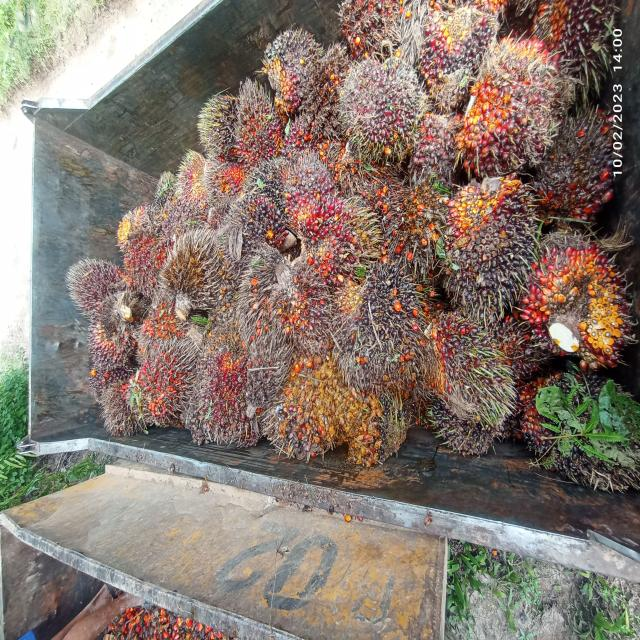fraksi 00: (511, 359, 640, 494), (432, 172, 546, 321), (533, 84, 630, 234), (332, 258, 425, 393), (428, 392, 504, 478), (252, 21, 320, 111), (233, 161, 296, 243), (188, 90, 250, 160), (75, 322, 134, 372), (84, 361, 130, 407)
fraksi 1: (424, 306, 520, 428), (412, 5, 501, 114), (328, 54, 416, 157), (52, 248, 131, 328), (168, 155, 212, 222)
fraksi 3: (523, 216, 633, 372), (452, 30, 556, 184), (197, 336, 270, 459), (294, 187, 364, 293), (233, 81, 286, 170), (200, 154, 254, 209)
fraksi 4: (260, 258, 342, 369), (128, 341, 190, 428), (381, 176, 438, 270), (115, 227, 178, 298), (132, 298, 192, 363)
